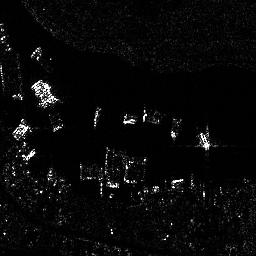ship: (198, 131, 210, 150)
